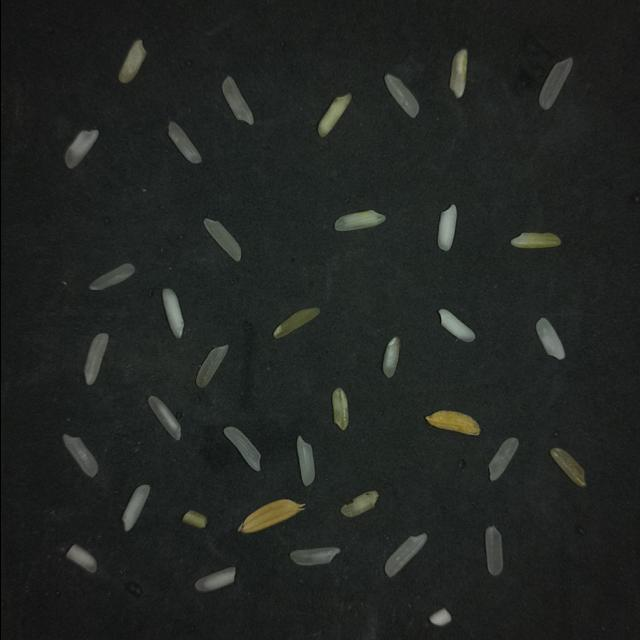broken: (64, 130, 97, 168), (117, 40, 145, 83), (194, 567, 234, 591), (296, 436, 314, 486), (181, 510, 206, 528)
chalky: (317, 94, 350, 137), (438, 309, 474, 342), (535, 318, 563, 359), (161, 289, 183, 338), (334, 210, 385, 231), (437, 204, 456, 251), (66, 544, 96, 573), (382, 337, 399, 378), (428, 608, 450, 626)
discolored: (272, 308, 319, 338), (549, 448, 585, 486), (340, 491, 377, 517), (448, 49, 466, 98), (510, 233, 560, 248), (331, 388, 348, 430)
paddy: (237, 499, 303, 533), (425, 411, 479, 435)
whole: (384, 534, 426, 576), (538, 58, 571, 109), (223, 427, 260, 471), (203, 219, 240, 261), (221, 76, 253, 124), (62, 434, 97, 477), (384, 74, 418, 118), (147, 396, 180, 439), (167, 122, 200, 163), (196, 345, 227, 387), (121, 485, 149, 531), (488, 438, 517, 481), (84, 334, 108, 384), (89, 264, 134, 290), (289, 547, 339, 565), (484, 526, 501, 575)
